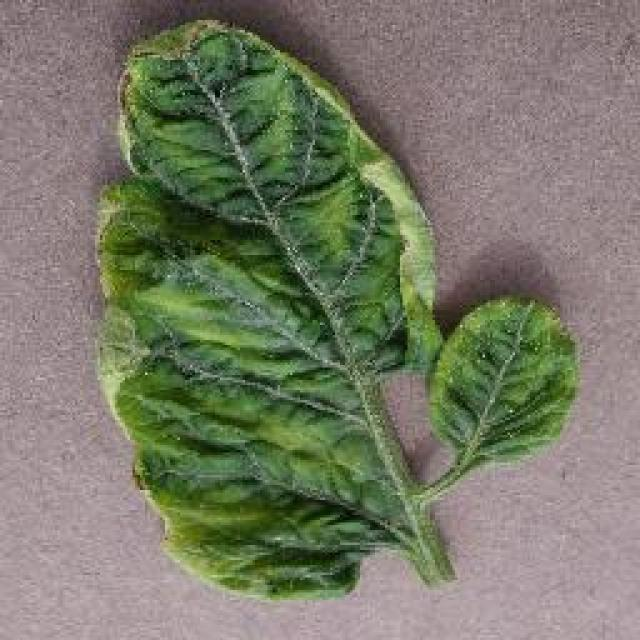Tomato yellow virus leaf: (86, 15, 442, 607), (424, 298, 586, 458)
